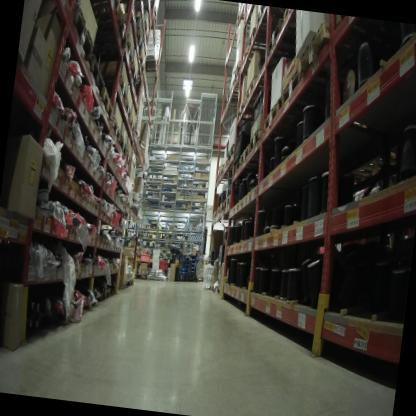pallet: (294, 19, 374, 95), (280, 67, 351, 119), (85, 13, 131, 58), (68, 4, 100, 58), (267, 21, 310, 53), (74, 0, 127, 24), (242, 24, 274, 58), (90, 80, 116, 121), (262, 93, 283, 142), (84, 53, 108, 93), (104, 71, 131, 103), (253, 7, 287, 32), (240, 46, 270, 72), (237, 94, 262, 121), (104, 114, 123, 148), (219, 91, 247, 114), (141, 49, 162, 78), (244, 75, 266, 102), (277, 13, 314, 28), (247, 122, 262, 157), (122, 35, 137, 70), (233, 63, 256, 83), (113, 131, 129, 156), (239, 138, 251, 170), (226, 81, 247, 99), (138, 15, 153, 40), (127, 60, 141, 83), (121, 93, 133, 119), (132, 24, 143, 51), (230, 153, 242, 177), (136, 52, 146, 74), (152, 4, 159, 27), (125, 119, 135, 133)
